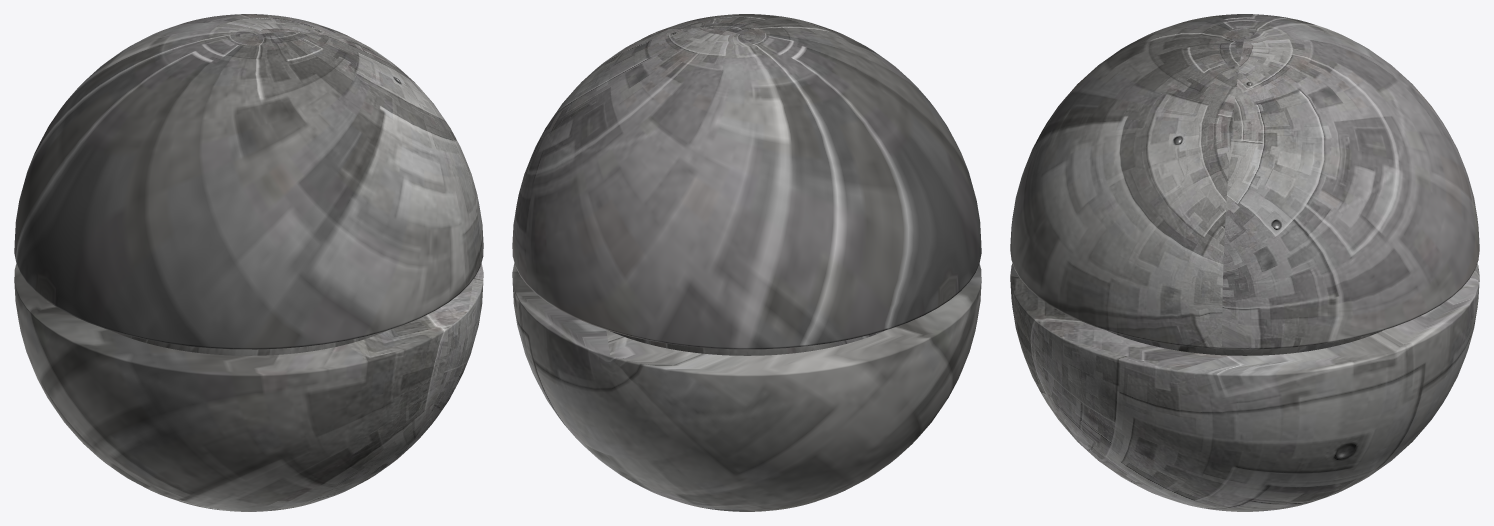
File: droid1.obj
The picture shows the model from 3 angles, left to right: view 1: azimuth 30°, elevation 25°; view 2: azimuth 150°, elevation 25°; view 3: azimuth 270°, elevation 25°; orthographic projection.
Parts seen in each view (by area): view 1: Sphere.002; view 2: Sphere.002; view 3: Sphere.002.
Part boxes in pixels (x1,y1,x2,y2): Sphere.002: (14, 14, 483, 511); Sphere.002: (512, 14, 981, 511); Sphere.002: (1010, 14, 1479, 511).
Bounding box in the file's own units: 2 × 2.14 × 2.
2 materials, 2 textured.
